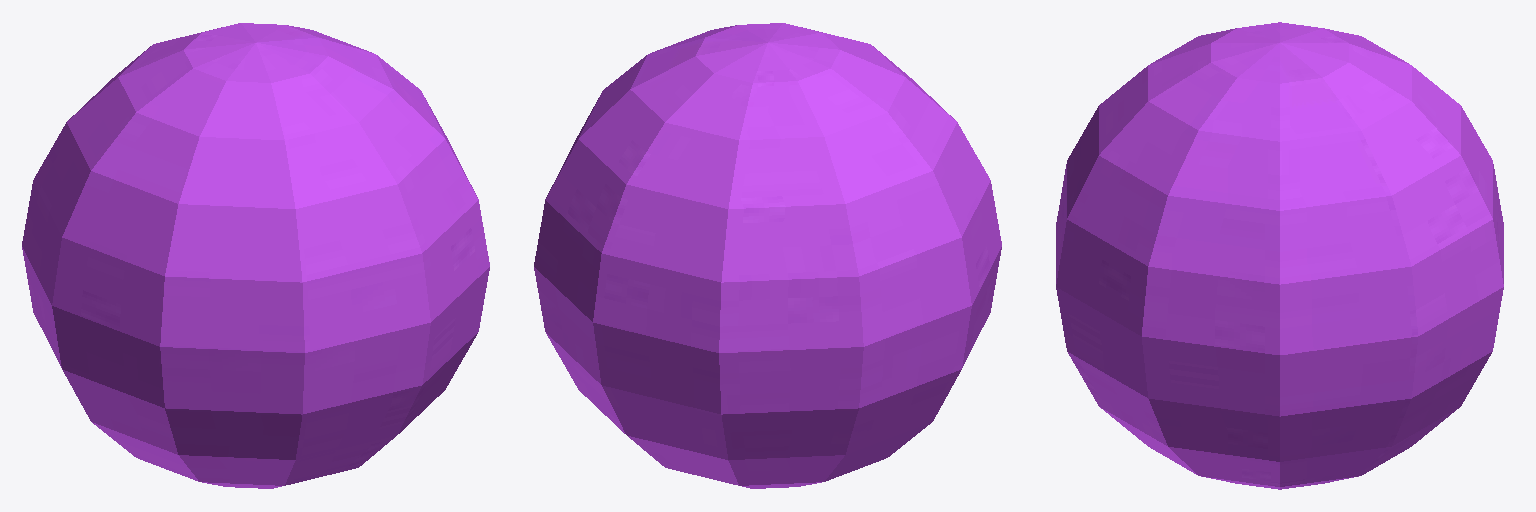
The picture shows the model from 3 angles: view 1: azimuth 30°, elevation 25°; view 2: azimuth 150°, elevation 25°; view 3: azimuth 270°, elevation 25°; orthographic projection.
Size of the model in its own units: 0.5288 by 0.5288 by 0.5029.
1 materials, 1 textured.